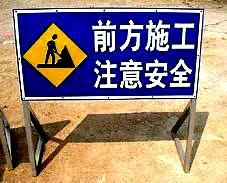sign: (15, 7, 197, 99)
